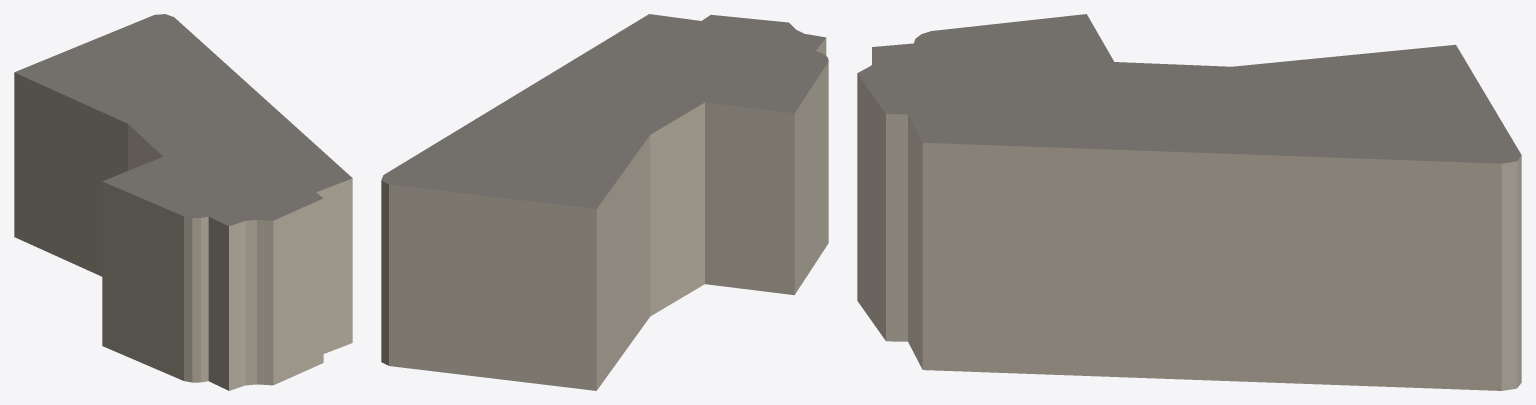
3 views of the same model, side by side, from view 1: azimuth 30°, elevation 25°; view 2: azimuth 150°, elevation 25°; view 3: azimuth 270°, elevation 25° (orthographic). The views are drawn at different scales.
Parts seen in each view (by area): view 1: HP-w442103681; view 2: HP-w442103681; view 3: HP-w442103681.
Boxes of the visible parts, x1,y1,x2,y2 form: HP-w442103681: (14, 14, 352, 390); HP-w442103681: (381, 14, 828, 390); HP-w442103681: (857, 14, 1521, 390).
Bounding box in the file's own units: 25.42 × 18 × 47.7.
